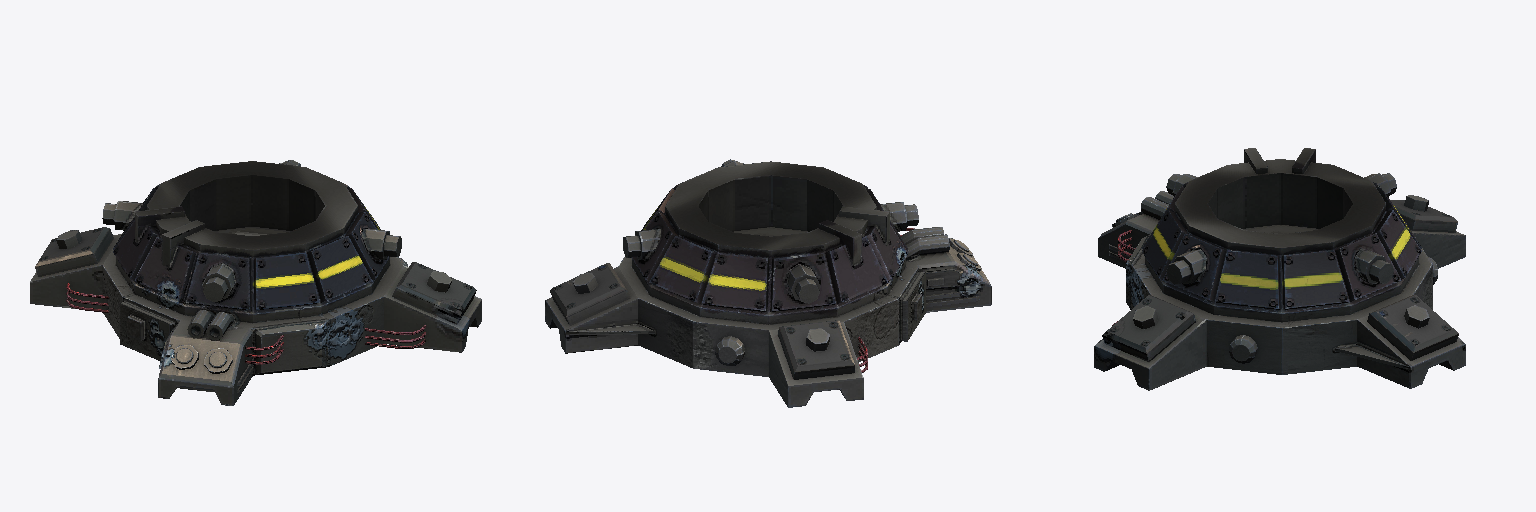
3 views of the same model, side by side, from view 1: azimuth 30°, elevation 25°; view 2: azimuth 150°, elevation 25°; view 3: azimuth 270°, elevation 25° (orthographic).
Parts seen in each view (by area): view 1: rocket_meshId1_name; view 2: rocket_meshId1_name; view 3: rocket_meshId1_name.
Boxes of the visible parts, <box> form: rocket_meshId1_name: <box>30,160,481,405</box>; rocket_meshId1_name: <box>545,159,991,407</box>; rocket_meshId1_name: <box>1094,148,1465,390</box>.
Bounding box in the file's own units: 1.66 × 0.5565 × 1.66.
Materials: 1 (1 with a texture image).